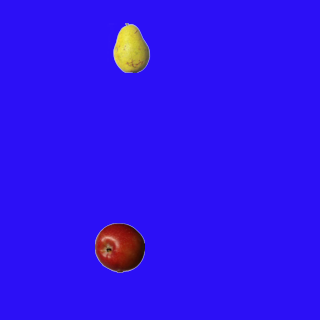Apple Braeburn: (94, 222, 144, 272)
Pear Monster: (106, 22, 156, 72)
